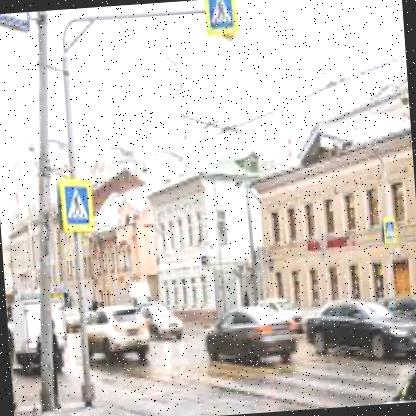crosswalk: (65, 182, 91, 223), (208, 0, 235, 30)
trafficlight: (386, 222, 396, 237)
